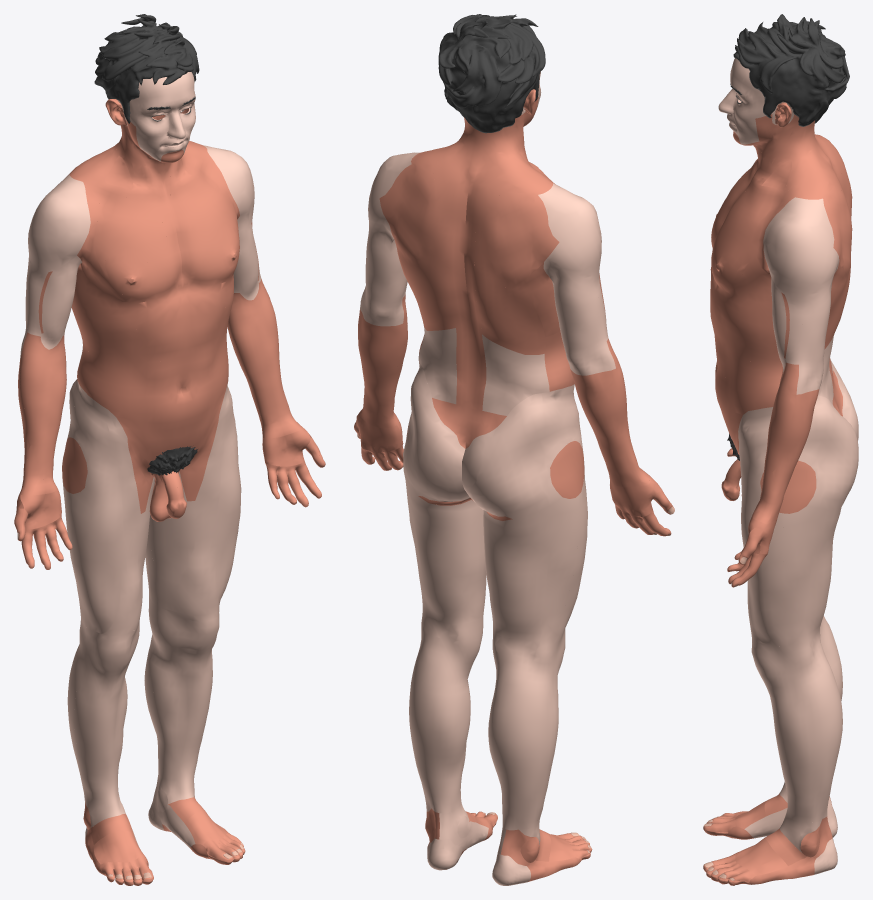
The model's file is body.glb.
3 views of the same model, side by side, from view 1: azimuth 30°, elevation 25°; view 2: azimuth 150°, elevation 25°; view 3: azimuth 270°, elevation 25° (orthographic). The views are drawn at different scales.
Parts seen in each view (by area): view 1: Anterior_region_of_thighr, Anterior_region_of_thighl, Hairs_of_head, Anterior_region_of_legl, Anterior_region_of_legr, Pectoral_regionr, Deltoid_regionr, Anterior_region_of_forearml, Anterior_region_of_forearmr, Lateral_region_of_thoraxr, Lateral_region_of_abdomenr, Pectoral_regionl (+46 smaller); view 2: Posterior_region_of_thighr, Hairs_of_head, Gluteal_regionr, Posterior_region_of_thighl, Posterior_region_of_legr, Posterior_region_of_legl, Gluteal_regionl, Scapular_regionr, Posterior_region_of_armr, Infrascapular_regionr, Scapular_regionl, Posterior_region_of_forearmr (+32 smaller); view 3: Hairs_of_head, Anterior_region_of_thighl, Posterior_region_of_thighl, Deltoid_regionl, Gluteal_regionl, Posterior_region_of_legl, Lateral_region_of_thoraxl, Anterior_region_of_legl, Lateral_region_of_abdomenl, Pectoral_regionl, Posterior_region_of_arml, Posterior_region_of_neckl (+45 smaller).
Boxes of the visible parts, <box> form: Anterior_region_of_thighr: <box>69,382,154,636</box>; Anterior_region_of_thighl: <box>150,383,241,615</box>; Hairs_of_head: <box>94,14,199,123</box>; Anterior_region_of_legl: <box>153,654,212,780</box>; Anterior_region_of_legr: <box>74,674,127,799</box>; Pectoral_regionr: <box>94,205,174,302</box>; Deltoid_regionr: <box>28,174,90,271</box>; Anterior_region_of_forearml: <box>228,304,292,425</box>; Anterior_region_of_forearmr: <box>22,360,66,481</box>; Lateral_region_of_thoraxr: <box>71,225,147,333</box>; Lateral_region_of_abdomenr: <box>77,342,147,422</box>; Pectoral_regionl: <box>183,179,238,284</box>; Posterior_region_of_thighr: <box>483,496,579,640</box>; Hairs_of_head: <box>438,14,545,133</box>; Gluteal_regionr: <box>462,392,567,518</box>; Posterior_region_of_thighl: <box>403,471,485,624</box>; Posterior_region_of_legr: <box>488,688,555,830</box>; Posterior_region_of_legl: <box>409,667,468,813</box>; Gluteal_regionl: <box>403,360,470,501</box>; Scapular_regionr: <box>486,191,559,287</box>; Posterior_region_of_armr: <box>543,242,606,348</box>; Infrascapular_regionr: <box>475,273,545,354</box>; Scapular_regionl: <box>379,164,436,266</box>; Posterior_region_of_forearmr: <box>570,368,640,475</box>; Hairs_of_head: <box>733,14,849,126</box>; Anterior_region_of_thighl: <box>738,407,787,646</box>; Posterior_region_of_thighl: <box>783,506,841,645</box>; Deltoid_regionl: <box>763,197,834,297</box>; Gluteal_regionl: <box>798,395,858,509</box>; Posterior_region_of_legl: <box>798,679,842,822</box>; Lateral_region_of_thoraxl: <box>715,229,846,343</box>; Anterior_region_of_legl: <box>770,696,806,822</box>; Lateral_region_of_abdomenl: <box>723,347,782,414</box>; Pectoral_regionl: <box>711,197,769,291</box>; Posterior_region_of_arml: <box>799,248,839,364</box>; Posterior_region_of_neckl: <box>784,120,834,199</box>.
Size of what is drawn, in the model's own units: 68.01 by 174 by 29.4.
